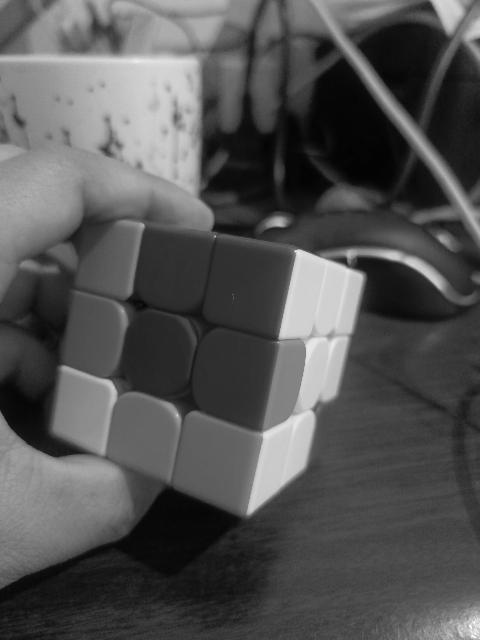rubik: (48, 217, 366, 518)
